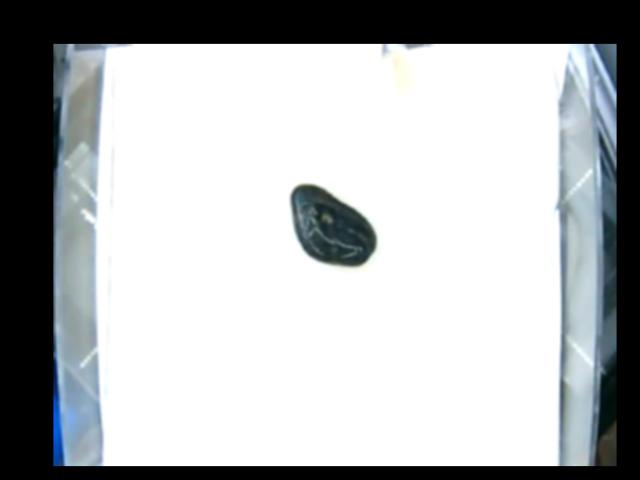Pebble: (290, 182, 378, 268)
